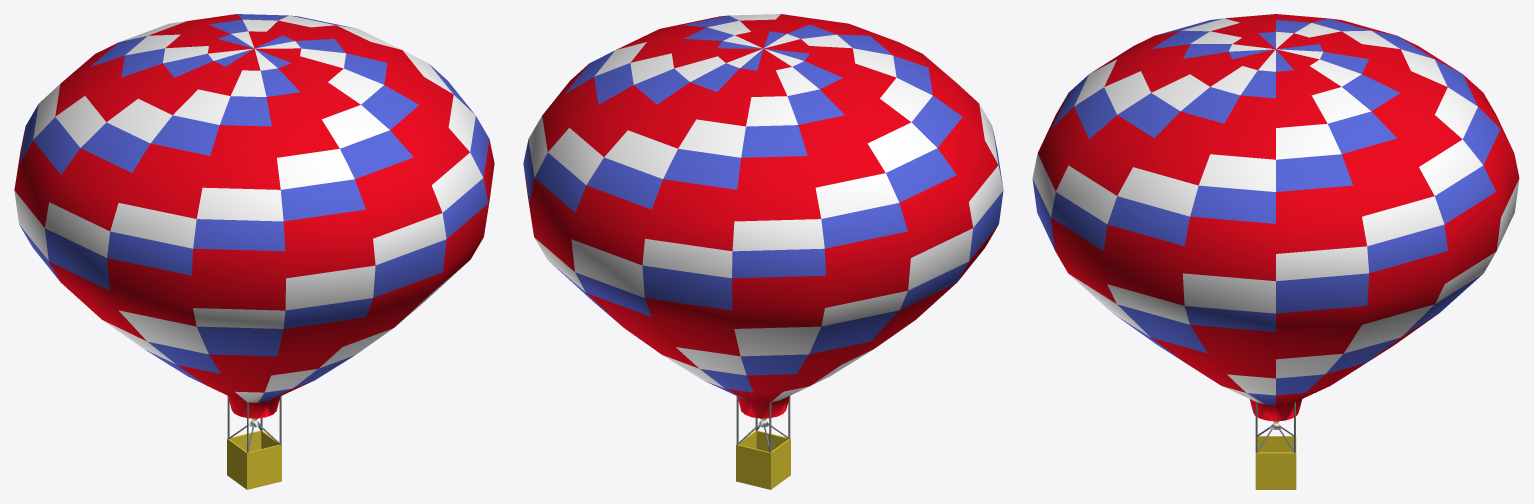
File: balloon_balloon5.glb
The picture shows the model from 3 angles, left to right: view 1: azimuth 30°, elevation 25°; view 2: azimuth 150°, elevation 25°; view 3: azimuth 270°, elevation 25°; orthographic projection.
Parts seen in each view (by area): view 1: airframe; view 2: airframe; view 3: airframe.
Part boxes in pixels (x1=…): airframe: x1=14, y1=14, x2=494, y2=489; airframe: x1=523, y1=14, x2=1003, y2=489; airframe: x1=1032, y1=14, x2=1519, y2=489.
Bounding box in the file's own units: 55.25 × 54.09 × 55.25.
